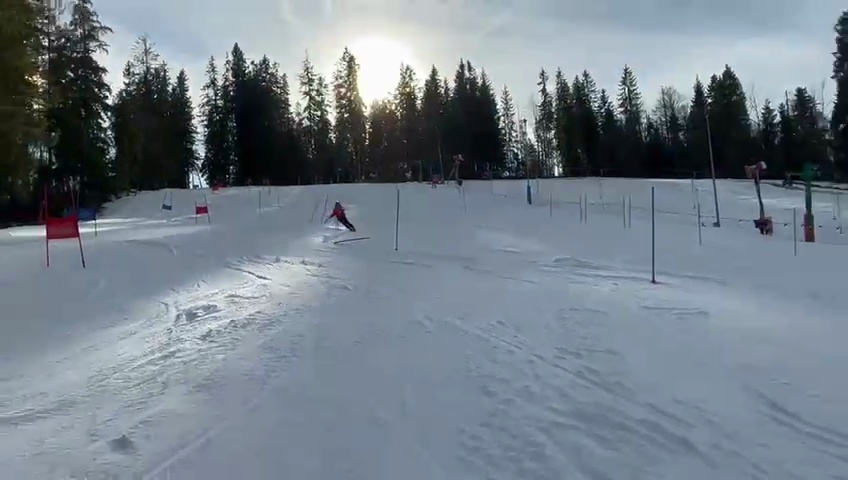gate: (704, 109, 726, 230), (65, 177, 89, 267), (38, 175, 56, 271), (646, 182, 661, 286), (750, 158, 771, 224), (688, 178, 705, 249), (708, 155, 723, 229), (390, 186, 405, 254), (788, 206, 799, 258), (329, 234, 372, 246), (202, 195, 214, 227), (320, 194, 331, 227), (581, 191, 590, 227), (622, 192, 630, 231), (156, 192, 168, 214), (192, 197, 201, 225), (160, 191, 171, 213), (255, 190, 264, 216), (275, 192, 284, 209), (167, 192, 174, 213), (359, 232, 371, 241)
